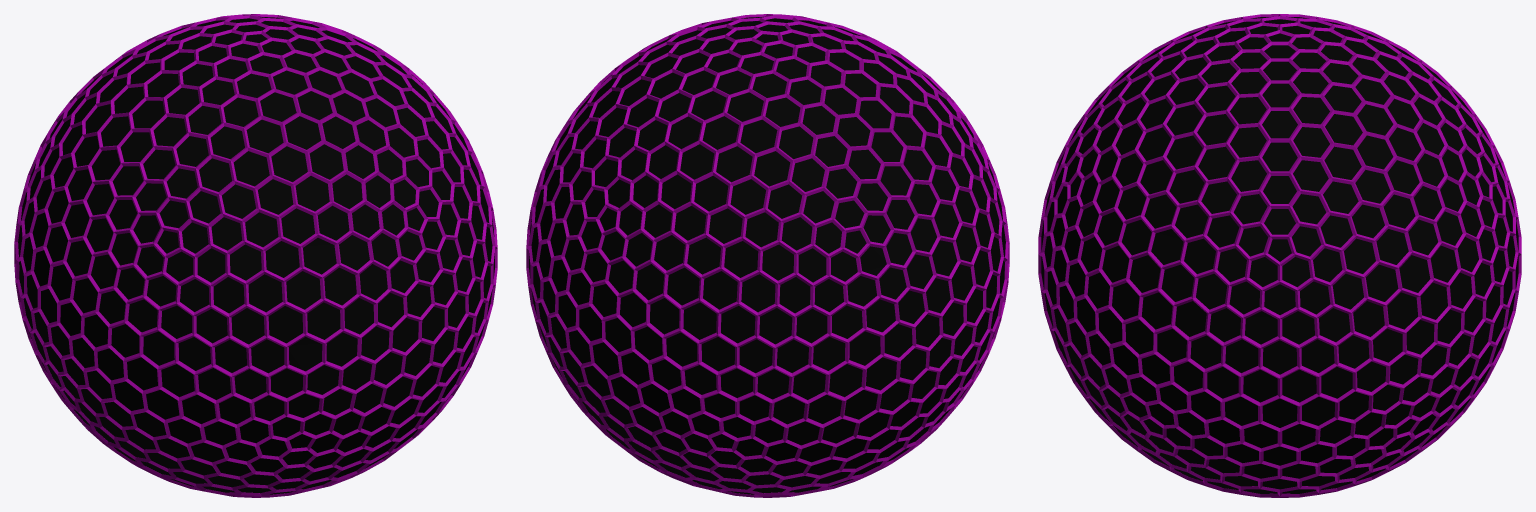
File: hexagonal.glb
3 renders of one model, left to right at view 1: azimuth 30°, elevation 25°; view 2: azimuth 150°, elevation 25°; view 3: azimuth 270°, elevation 25°, orthographic.
Visible parts, largest first — view 1: DualMesh.002, Wire.001; view 2: DualMesh.002, Wire.001; view 3: DualMesh.002, Wire.001.
Part boxes in pixels (box(x1,y1,x2,y2)): DualMesh.002: box(18, 16, 494, 494); Wire.001: box(14, 14, 497, 497); DualMesh.002: box(529, 16, 1005, 494); Wire.001: box(526, 14, 1009, 497); DualMesh.002: box(1041, 17, 1518, 493); Wire.001: box(1038, 14, 1521, 497).
Bounding box in the file's own units: 2 × 2.01 × 2.
